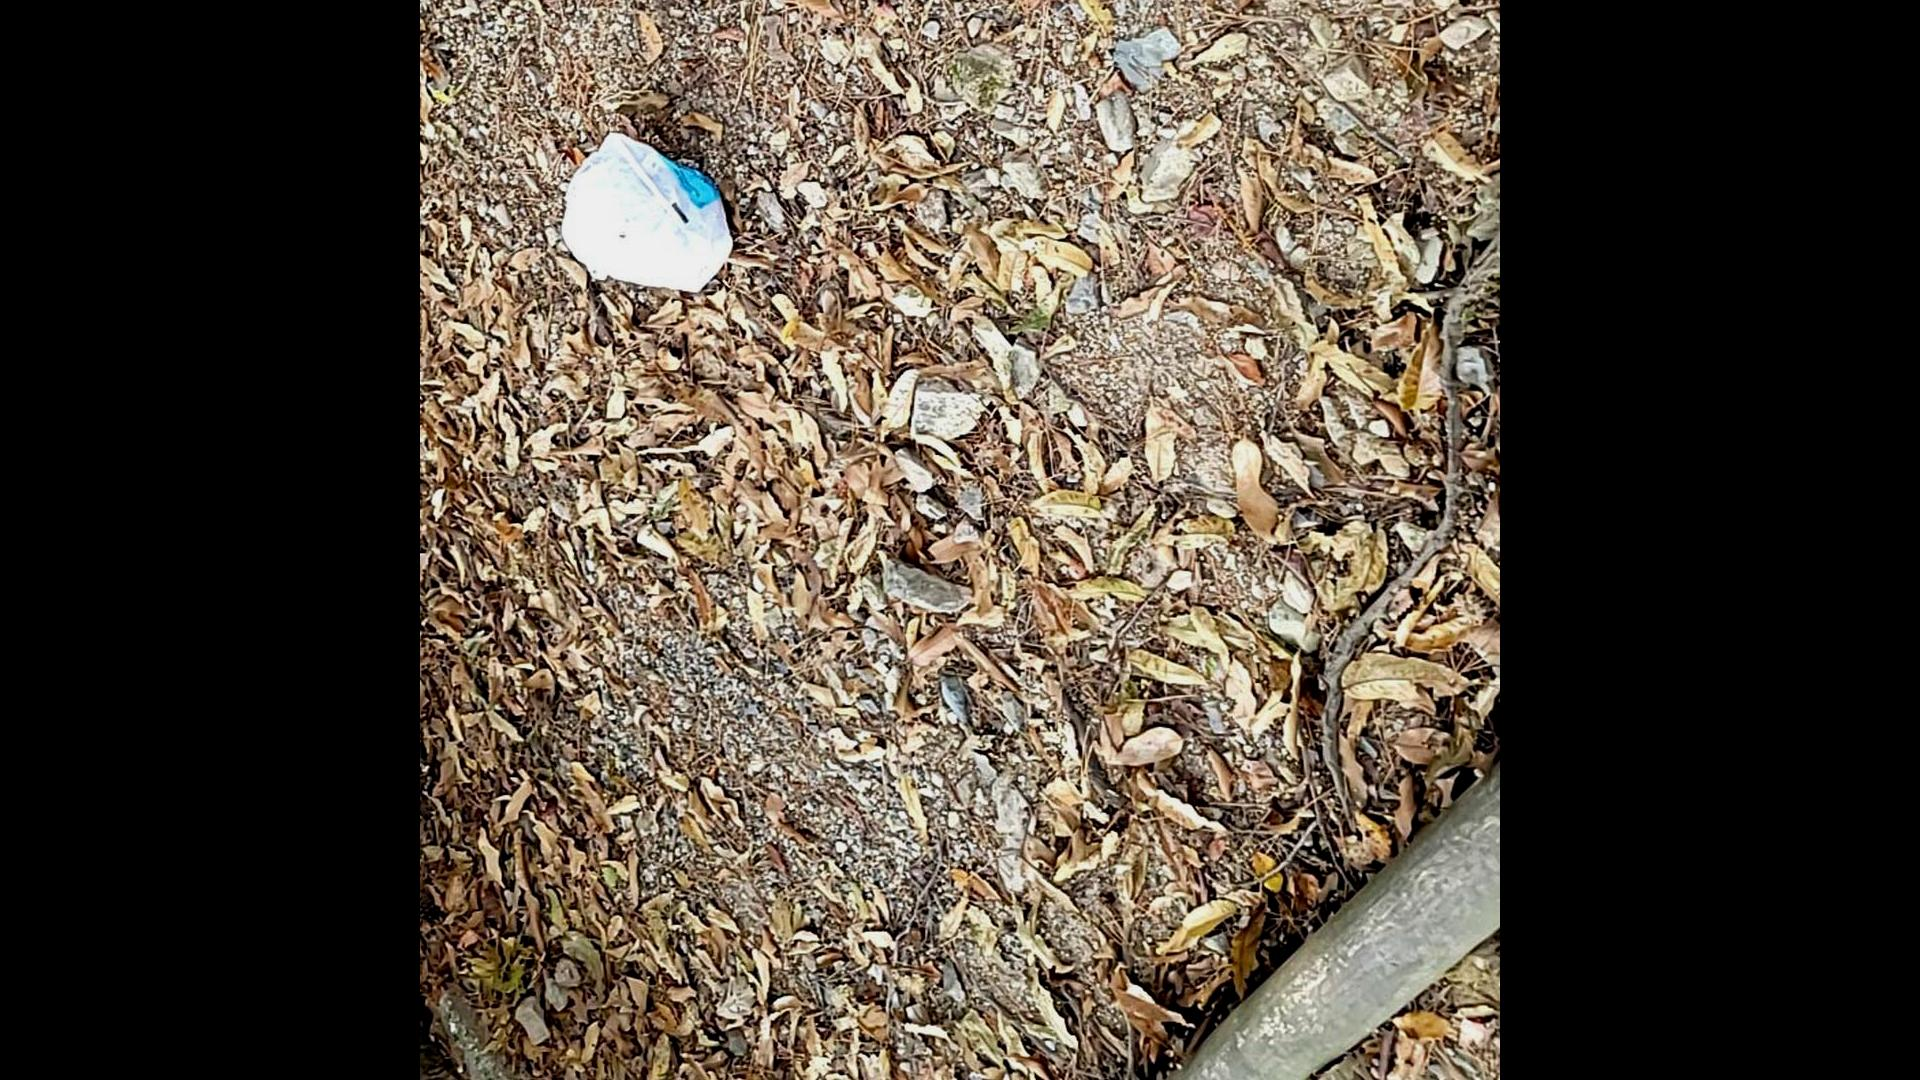white_bag: (554, 121, 744, 311)
